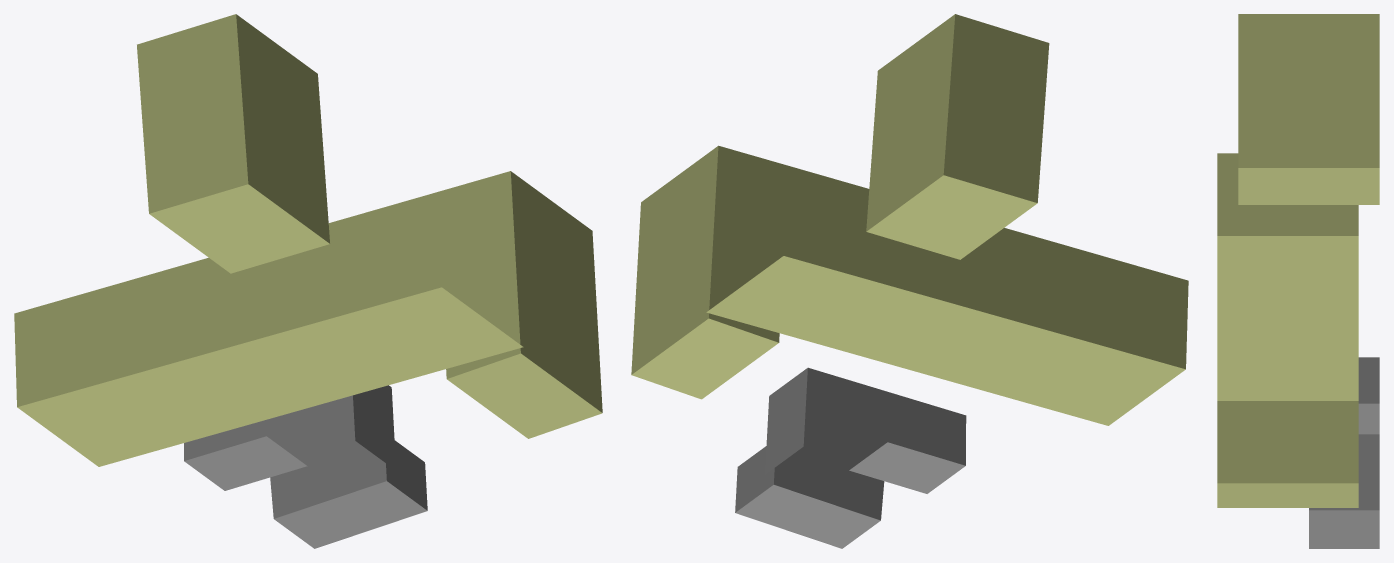
3 renders of one model, left to right at view 1: azimuth 30°, elevation 25°; view 2: azimuth 150°, elevation 25°; view 3: azimuth 270°, elevation 25°, orthographic. The views are drawn at different scales.
Parts seen in each view (by area): view 1: 0_1_0_0_1_0_3_0_1_0; view 2: 0_1_0_0_1_0_3_0_1_0; view 3: 0_1_0_0_1_0_3_0_1_0.
Part boxes in pixels (left/top/right/bottom): 0_1_0_0_1_0_3_0_1_0: left=14, top=14, right=602, bottom=548; 0_1_0_0_1_0_3_0_1_0: left=631, top=14, right=1188, bottom=548; 0_1_0_0_1_0_3_0_1_0: left=1217, top=14, right=1379, bottom=548.
Size of the model in its own units: 21.46 by 20.82 by 6.9.
